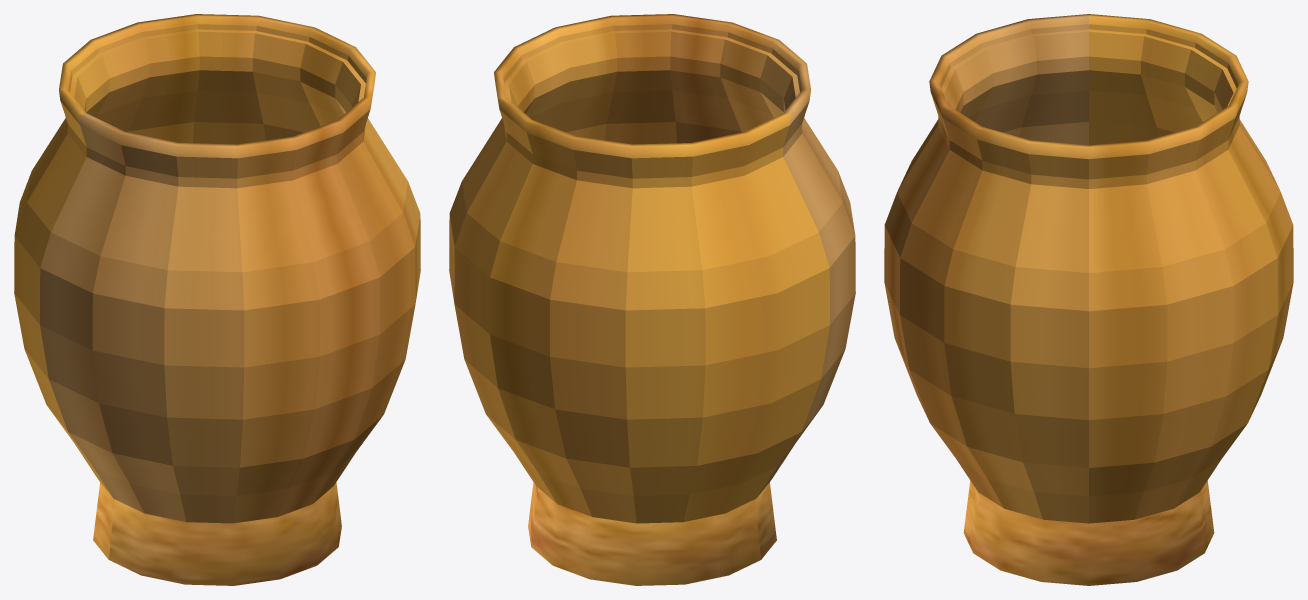
The model's file is vase.gltf.
The picture shows the model from 3 angles, left to right: view 1: azimuth 30°, elevation 25°; view 2: azimuth 150°, elevation 25°; view 3: azimuth 270°, elevation 25°; orthographic projection.
Parts seen in each view (by area): view 1: Cube; view 2: Cube; view 3: Cube.
Part boxes in pixels (left/top/right/bottom): Cube: left=14, top=14, right=420, bottom=585; Cube: left=449, top=14, right=855, bottom=585; Cube: left=884, top=14, right=1293, bottom=585.
Bounding box in the file's own units: 1.45 × 1.76 × 1.45.
Materials: 1 (1 with a texture image).
